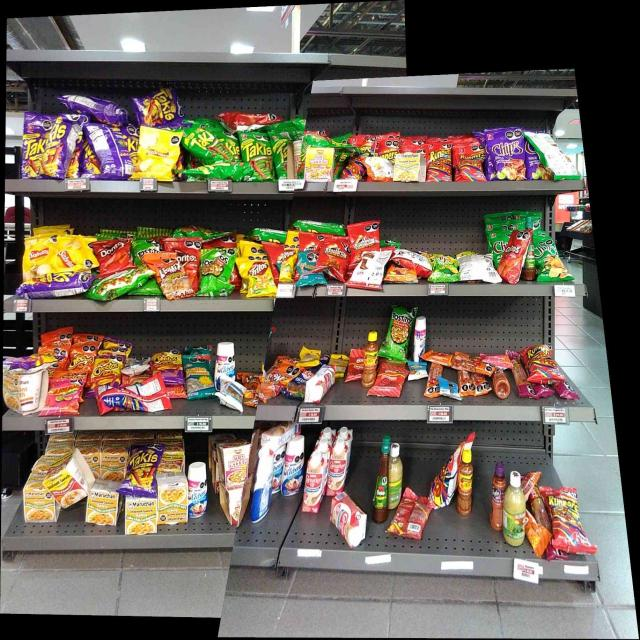bitzAlmendras: (408, 361, 425, 379)
bitzEnchilado90: (378, 361, 404, 398), (348, 349, 362, 379)
bitzEnchilado95: (527, 515, 549, 555), (432, 353, 478, 371)
bitzHabanero: (512, 352, 525, 396)
bokadosCacahuates: (286, 376, 304, 398)
botaneraChilito: (460, 449, 472, 514), (364, 333, 376, 385)
cheetosFlaminHot: (153, 354, 182, 384), (9, 353, 53, 370), (95, 357, 122, 384)
cheetosOriginal: (69, 347, 94, 368)
chipsFuego: (486, 129, 524, 180), (525, 142, 545, 180)
chipsJalapeno: (538, 237, 562, 283), (491, 231, 504, 257)
chipsPapatinas: (431, 254, 458, 282)
churrumais: (48, 378, 82, 413), (482, 354, 509, 369)
delPrimoSalsa: (505, 470, 525, 544), (390, 444, 401, 508)
doritosNacho: (93, 240, 133, 270), (506, 232, 522, 283), (167, 239, 200, 258)
fritosLimon: (236, 258, 276, 299), (279, 237, 296, 283)
hotNutsOriginal: (387, 265, 418, 284)
leoCacahuates: (220, 380, 242, 408)
leoMix: (154, 259, 182, 298), (261, 368, 282, 401), (243, 374, 258, 404)
maruchanPollo: (3, 372, 46, 413), (157, 475, 187, 523), (88, 491, 116, 525), (306, 147, 333, 182), (126, 502, 155, 534), (24, 488, 48, 520), (397, 154, 418, 180)
maruchanRes: (50, 462, 86, 502)
nestleCarnation: (331, 497, 366, 543), (303, 454, 322, 513), (328, 441, 346, 492), (307, 370, 334, 397)
nestleLechera: (254, 459, 273, 515), (282, 440, 301, 494), (189, 463, 207, 516), (216, 344, 236, 376), (414, 318, 426, 359)
nissinRes: (218, 442, 249, 487)
productoAtras: (95, 387, 168, 410), (90, 272, 152, 296), (350, 252, 385, 288), (546, 133, 572, 180), (60, 94, 124, 112), (100, 124, 120, 180), (460, 255, 489, 281), (370, 158, 396, 181), (437, 378, 459, 400), (394, 249, 427, 263)
rancheritos: (324, 238, 348, 280), (350, 226, 378, 249), (300, 233, 321, 251)
runners: (551, 488, 578, 552), (452, 144, 483, 182), (528, 346, 560, 382), (430, 465, 456, 509), (424, 143, 450, 181), (347, 138, 367, 180), (369, 137, 396, 157)
sabritasOriginal: (140, 127, 180, 177), (23, 238, 52, 274), (54, 242, 90, 270)
salsaBufalo: (372, 439, 388, 521), (525, 244, 536, 281)
semillasCalabaza: (300, 346, 319, 365)
semillasGirasol: (184, 355, 213, 396), (297, 252, 320, 284)
tajinDulce: (490, 463, 503, 531)
takisFuego: (134, 92, 181, 125), (47, 116, 70, 176), (24, 115, 45, 178), (129, 448, 155, 496), (21, 276, 87, 294), (74, 138, 98, 179), (122, 127, 138, 163)
takisOriginal: (184, 127, 238, 161), (240, 134, 273, 180), (274, 136, 290, 180)
tostitos: (201, 249, 235, 296), (388, 309, 410, 359), (134, 240, 160, 258)
